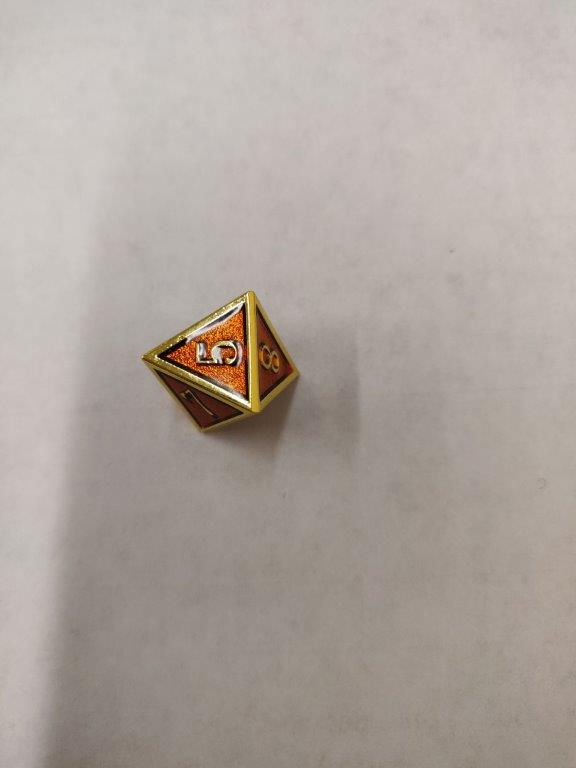d8-5: (138, 287, 303, 444)
